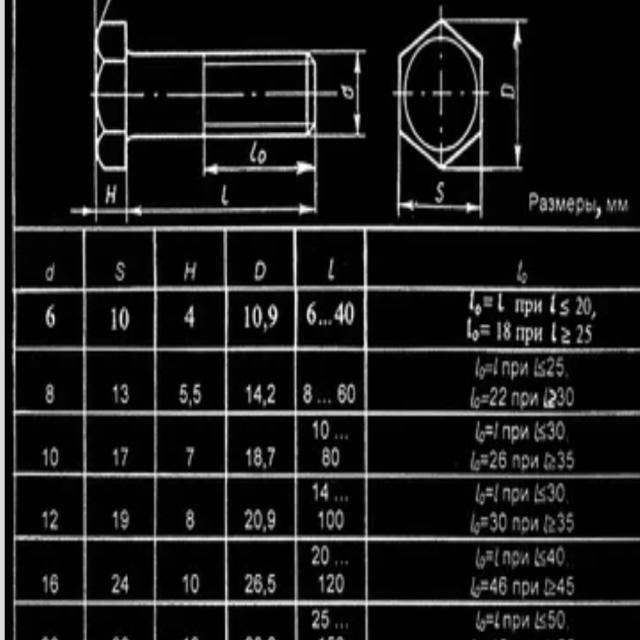marking_line: (122, 174, 319, 223), (485, 16, 530, 177), (200, 140, 320, 182), (318, 46, 369, 141), (395, 176, 483, 222), (69, 175, 129, 221)
numeric: (181, 302, 196, 330), (118, 305, 132, 332), (267, 303, 281, 329), (304, 300, 317, 327), (44, 303, 57, 329), (252, 302, 265, 328), (252, 507, 264, 532), (45, 381, 57, 405), (346, 381, 358, 405), (243, 572, 255, 596), (344, 300, 355, 326), (108, 306, 118, 334), (120, 383, 132, 406), (192, 381, 203, 406), (49, 507, 60, 531), (119, 442, 129, 468), (110, 571, 120, 597), (119, 508, 130, 531), (556, 608, 567, 631), (265, 509, 277, 530), (335, 301, 345, 326), (267, 381, 277, 406), (337, 381, 347, 406), (252, 572, 263, 594), (320, 420, 331, 442), (330, 445, 341, 467), (243, 507, 253, 531), (498, 511, 508, 535), (184, 509, 195, 530), (335, 509, 346, 530), (309, 545, 320, 566), (302, 381, 312, 404), (178, 383, 188, 405), (191, 573, 201, 595), (319, 483, 330, 503), (498, 385, 508, 407), (185, 445, 194, 469), (267, 444, 276, 468), (267, 571, 276, 595), (120, 574, 130, 595), (502, 320, 512, 341), (556, 420, 566, 441), (498, 574, 508, 595), (556, 483, 567, 502), (244, 444, 252, 470), (50, 572, 59, 595), (322, 446, 331, 469), (326, 507, 335, 530), (584, 322, 593, 345), (335, 574, 345, 594), (566, 387, 576, 407), (499, 450, 509, 470), (52, 446, 61, 468), (557, 545, 566, 567), (317, 511, 327, 530), (253, 447, 262, 468), (311, 609, 320, 630), (547, 419, 556, 440), (489, 448, 498, 469), (490, 510, 498, 533), (567, 511, 575, 534), (566, 574, 574, 597), (253, 385, 262, 405), (321, 545, 330, 565), (583, 296, 592, 316), (546, 357, 555, 377), (489, 386, 498, 406), (557, 387, 566, 407), (312, 482, 320, 504), (326, 573, 334, 595), (321, 609, 329, 631), (576, 324, 584, 346), (490, 577, 499, 596), (41, 445, 48, 469), (575, 295, 583, 316), (557, 356, 565, 377), (547, 482, 555, 503), (557, 512, 565, 533), (112, 383, 119, 406), (182, 572, 189, 595), (318, 572, 325, 595), (312, 420, 320, 440), (566, 450, 574, 470), (547, 547, 555, 567), (41, 573, 48, 595), (245, 384, 252, 406), (548, 609, 555, 631), (244, 304, 250, 329), (496, 320, 502, 344), (492, 484, 500, 502), (557, 576, 565, 594), (41, 509, 48, 529), (493, 356, 500, 376), (494, 609, 501, 629), (558, 452, 565, 470), (113, 446, 119, 466), (113, 511, 119, 531), (493, 421, 499, 439), (494, 547, 499, 567)
